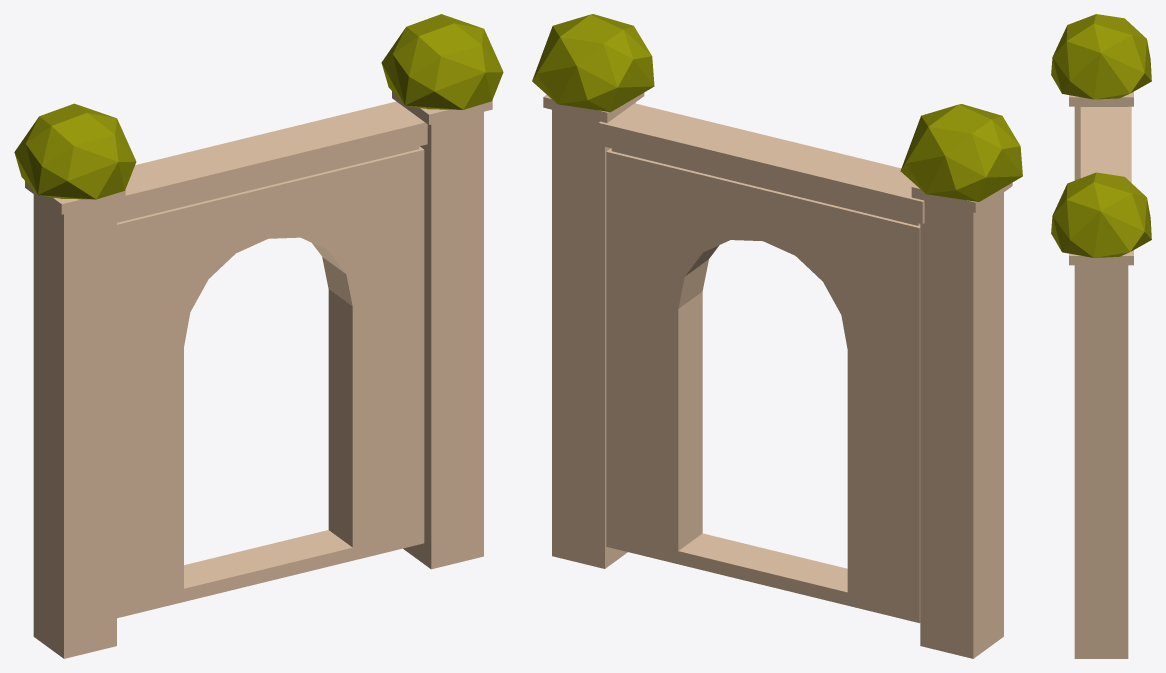
The model's file is village_pack_gate_2.glb.
The picture shows the model from 3 angles, left to right: view 1: azimuth 30°, elevation 25°; view 2: azimuth 150°, elevation 25°; view 3: azimuth 270°, elevation 25°; orthographic projection. The views are drawn at different scales.
Visible parts, largest first — view 1: gate 2_leaf 1_0; view 2: gate 2_leaf 1_0; view 3: gate 2_leaf 1_0.
Part boxes in pixels (x1,y1,x2,y2): gate 2_leaf 1_0: (14,14,503,658); gate 2_leaf 1_0: (532,14,1022,658); gate 2_leaf 1_0: (1051,14,1151,658).
Bounding box in the file's own units: 3.13 × 3.41 × 0.6641.
